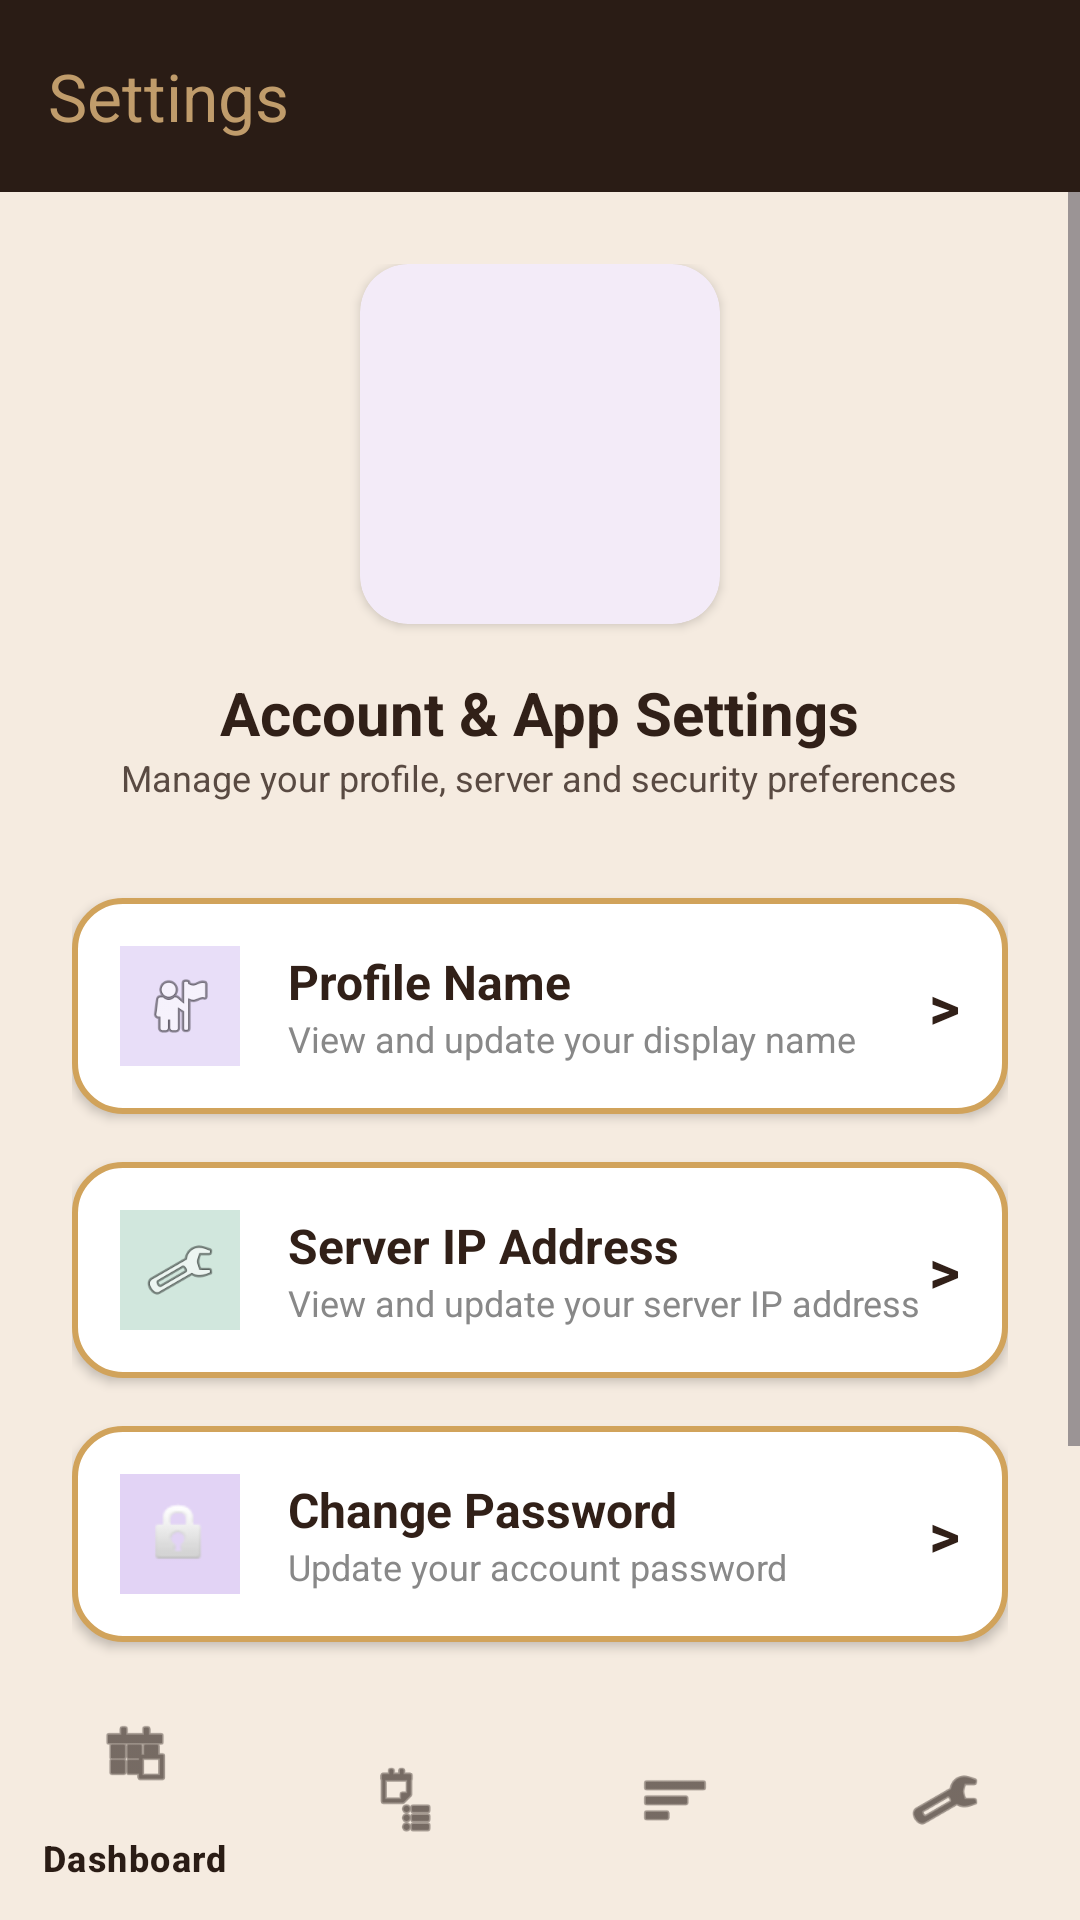

Named icons in this screenshot (1080w x 1920h) and their centers, (x,y):
lock idle: (180,1534)
manage: (180,1270)
myplaces: (180,1006)
